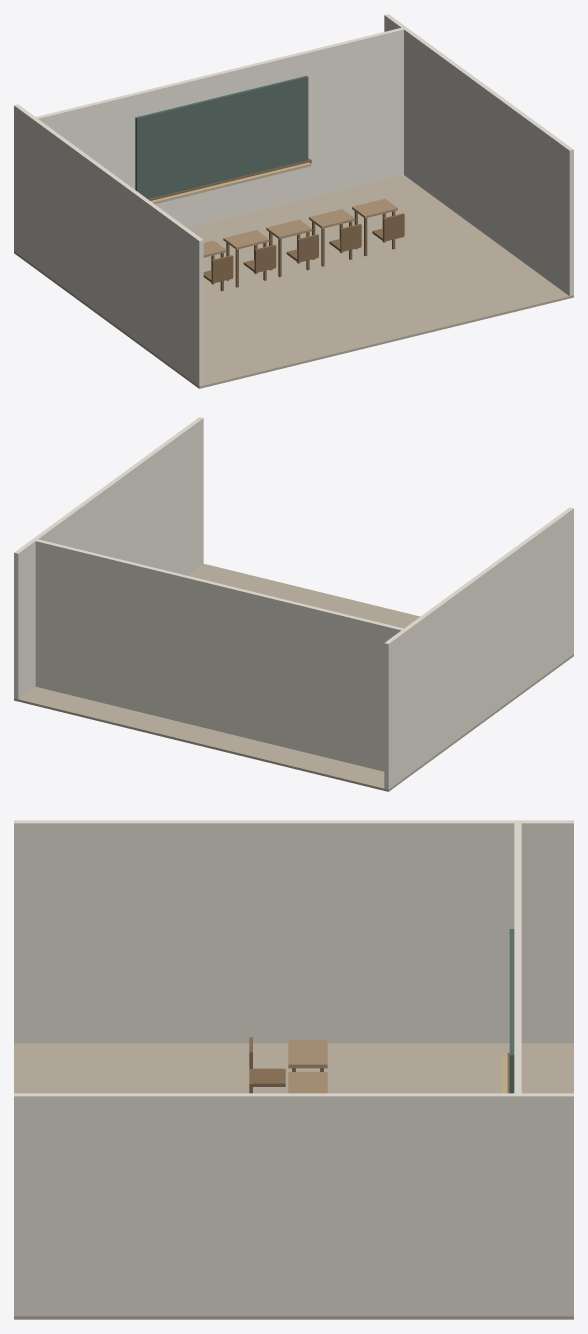
The model's file is classroom.glb.
The picture shows the model from 3 angles, top to bottom: view 1: azimuth 30°, elevation 25°; view 2: azimuth 150°, elevation 25°; view 3: azimuth 270°, elevation 25°; orthographic projection. The views are drawn at different scales.
Parts seen in each view (by area): view 1: floor, back_wall, left_wall, right_wall, blackboard, board_tray, desk_1, desk_2, desk_3, desk_4, chair_0_back, chair_1_back (+4 smaller); view 2: back_wall, left_wall, right_wall, floor; view 3: right_wall, left_wall, floor, back_wall, desk_0, blackboard, desk_1, chair_0.
Part boxes in pixels (bbox=[...]): floor: bbox=[14, 175, 573, 388]; back_wall: bbox=[31, 26, 407, 264]; left_wall: bbox=[14, 104, 203, 386]; right_wall: bbox=[384, 14, 573, 296]; blackboard: bbox=[135, 75, 308, 199]; board_tray: bbox=[150, 162, 310, 204]; desk_1: bbox=[223, 230, 269, 249]; desk_2: bbox=[266, 219, 312, 239]; desk_3: bbox=[309, 209, 355, 228]; desk_4: bbox=[352, 198, 397, 218]; chair_0_back: bbox=[211, 255, 233, 281]; chair_1_back: bbox=[254, 244, 276, 271]; back_wall: bbox=[32, 538, 408, 771]; left_wall: bbox=[384, 507, 573, 789]; right_wall: bbox=[14, 417, 203, 699]; floor: bbox=[14, 563, 573, 791]; right_wall: bbox=[14, 1093, 573, 1316]; left_wall: bbox=[14, 820, 573, 1043]; floor: bbox=[14, 1043, 573, 1319]; back_wall: bbox=[514, 820, 521, 1316]; desk_0: bbox=[288, 1040, 327, 1068]; blackboard: bbox=[509, 929, 514, 1093]; desk_1: bbox=[288, 1072, 327, 1093]; chair_0: bbox=[253, 1068, 285, 1086].
Size of the model in its own units: 7 by 2.64 by 6.
